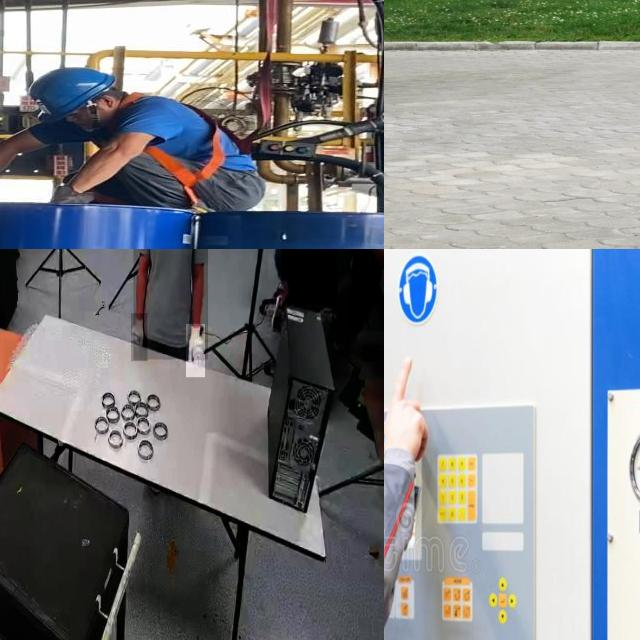Harness: (93, 92, 240, 212)
hand_glove: (186, 324, 206, 378), (131, 313, 148, 362)
person: (133, 249, 208, 360), (281, 249, 338, 306), (347, 249, 384, 332)
